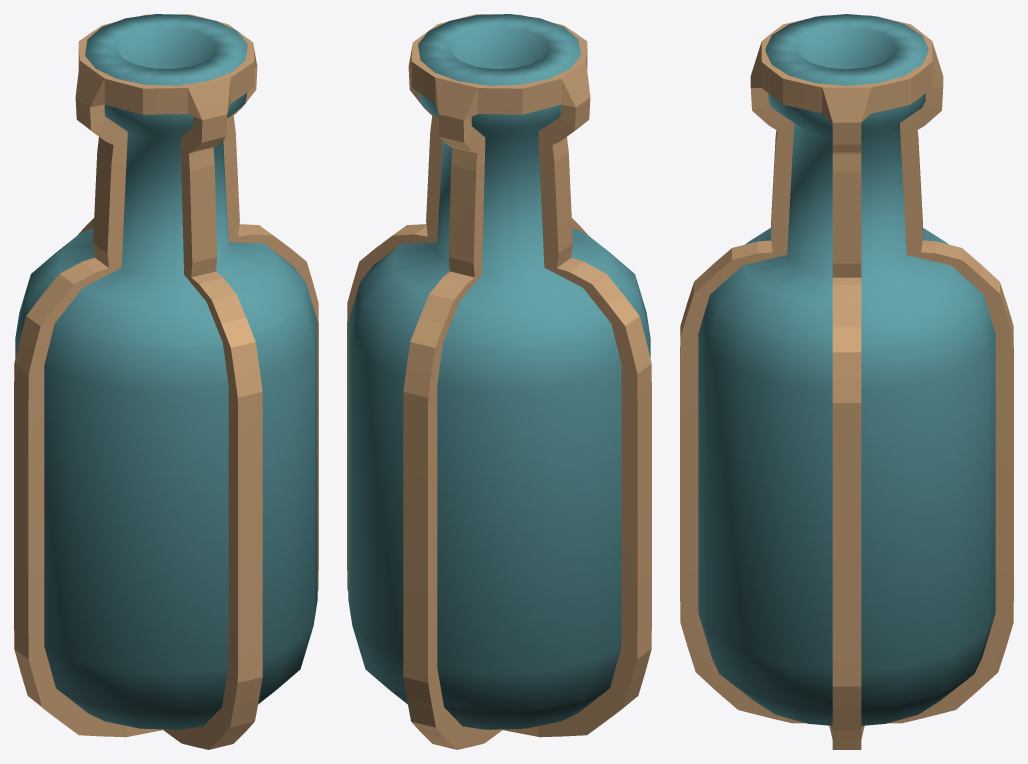
Rendered from bottle.fbx.
3 renders of one model, left to right at view 1: azimuth 30°, elevation 25°; view 2: azimuth 150°, elevation 25°; view 3: azimuth 270°, elevation 25°, orthographic.
Visible parts, largest first — view 1: Cylinder.001, Cylinder.003; view 2: Cylinder.001, Cylinder.003; view 3: Cylinder.001, Cylinder.003.
Part boxes in pixels (box(x1,y1,x2,y2)): Cylinder.001: box(15, 14, 317, 729); Cylinder.003: box(14, 14, 318, 749); Cylinder.001: box(348, 14, 650, 729); Cylinder.003: box(347, 14, 651, 749); Cylinder.001: box(698, 14, 995, 725); Cylinder.003: box(680, 15, 1013, 749).
Bounding box in the file's own units: 220 × 487 × 220.
1 material, 1 textured.
